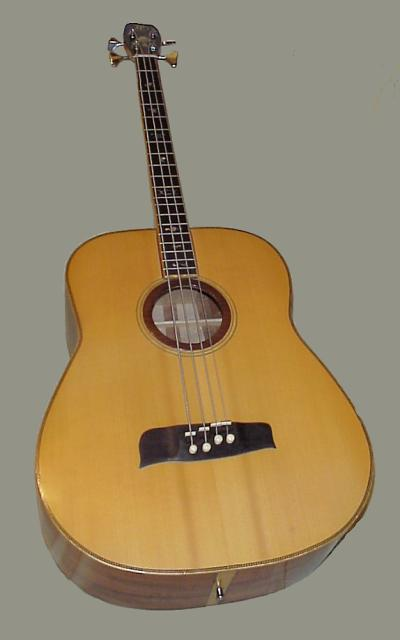guitar: (27, 21, 375, 610)
